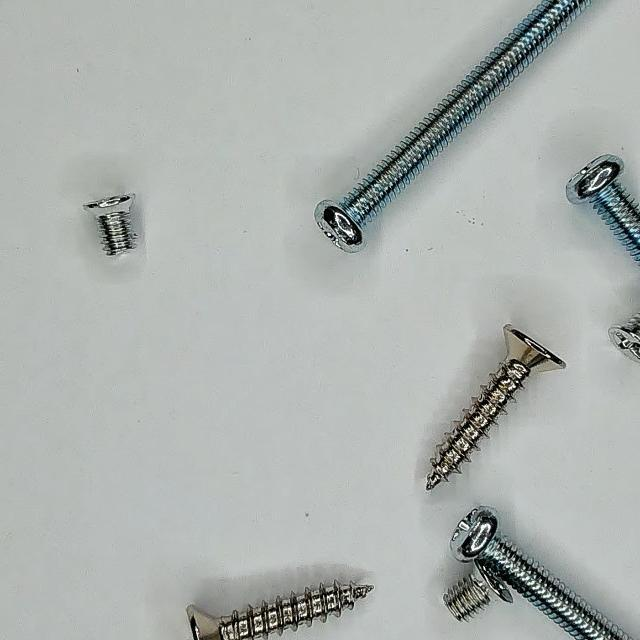Screw: (315, 0, 590, 252), (444, 507, 633, 640), (427, 325, 566, 492), (187, 582, 374, 640), (567, 155, 640, 264), (444, 571, 514, 622), (83, 193, 136, 256), (610, 313, 640, 362), (610, 314, 640, 362)
